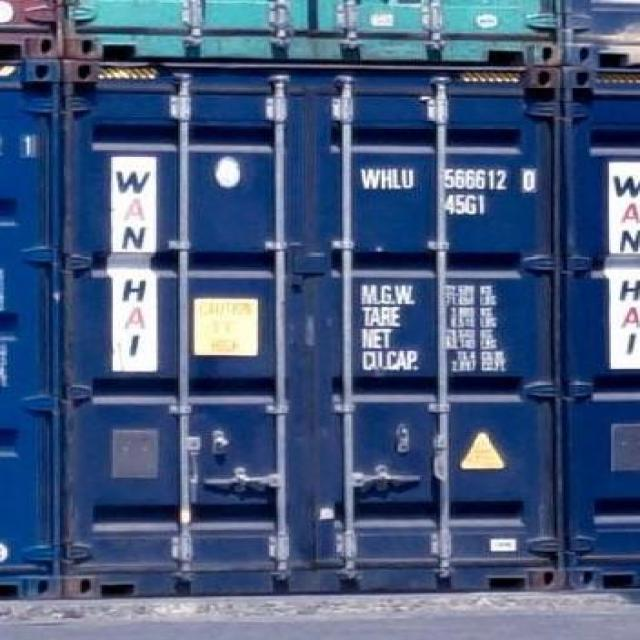ISO: (446, 195, 487, 217)
container_number: (362, 167, 536, 193), (440, 168, 532, 196)
